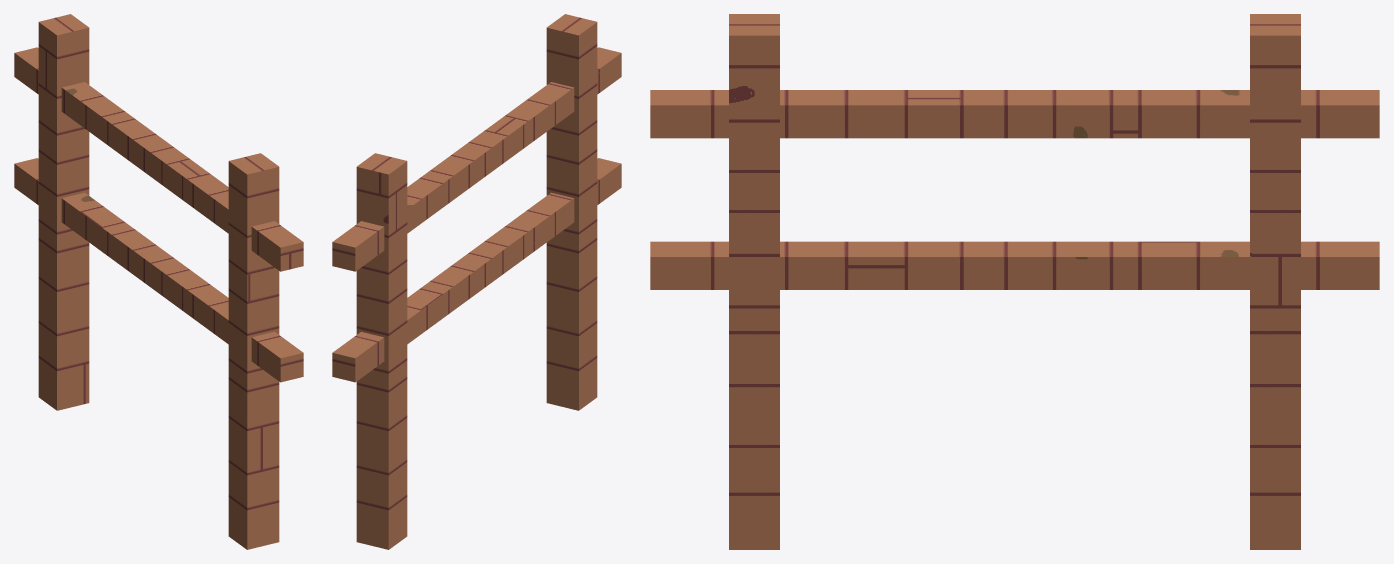
Rendered from plot.fbx.
3 views of the same model, side by side, from view 1: azimuth 30°, elevation 25°; view 2: azimuth 150°, elevation 25°; view 3: azimuth 270°, elevation 25° (orthographic). The views are drawn at different scales.
Visible parts, largest first — view 1: Cube; view 2: Cube; view 3: Cube.
Boxes of the visible parts, box(x1,y1,x2,y2) form: Cube: box(14, 14, 303, 549); Cube: box(332, 14, 621, 549); Cube: box(650, 14, 1379, 549).
Bounding box in the file's own units: 7 × 77.83 × 100.
